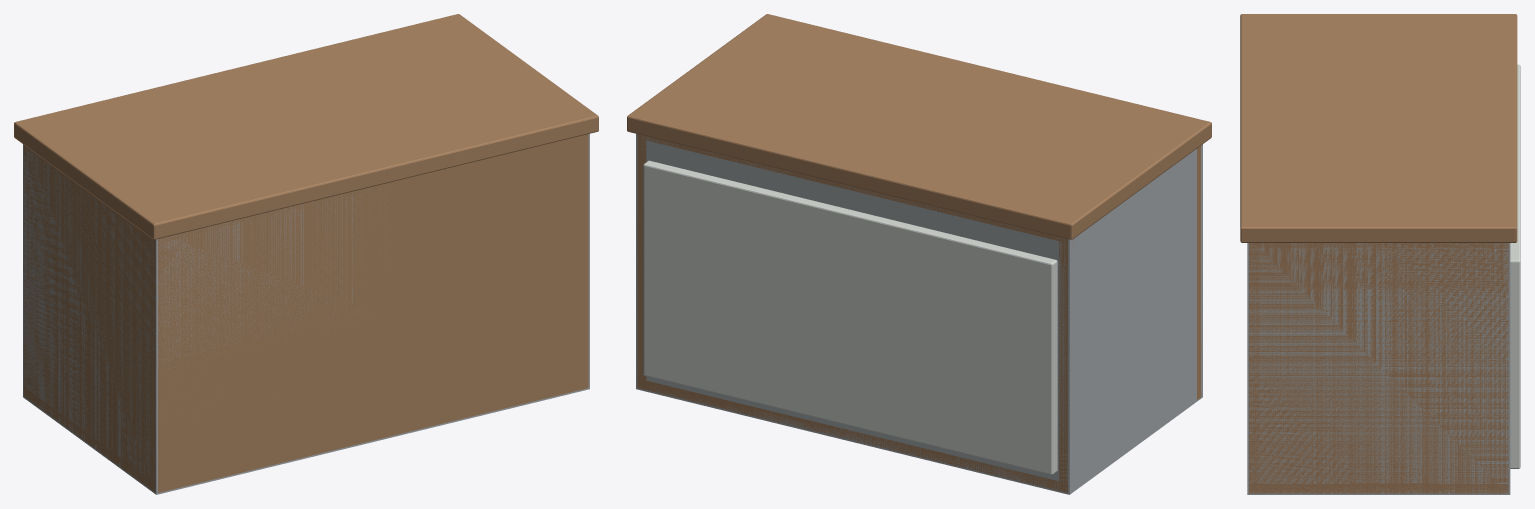
Rendered from chest.glb.
3 views of the same model, side by side, from view 1: azimuth 30°, elevation 25°; view 2: azimuth 150°, elevation 25°; view 3: azimuth 270°, elevation 25° (orthographic).
Parts seen in each view (by area): view 1: propkit_chest_001_back, propkit_chest_007_lid, propkit_chest_002_side_-1, propkit_chest_COL, propkit_chest_004_base; view 2: propkit_chest_006_front, propkit_chest_007_lid, propkit_chest_COL, propkit_chest_004_base, propkit_chest_002_side_-1, propkit_chest_005_top, propkit_chest_003_side_1, propkit_chest_001_back; view 3: propkit_chest_007_lid, propkit_chest_003_side_1, propkit_chest_COL, propkit_chest_006_front, propkit_chest_001_back, propkit_chest_004_base, propkit_chest_005_top.
Part boxes in pixels (x1,y1,x2,y2): propkit_chest_001_back: [150, 134, 588, 492]; propkit_chest_007_lid: [14, 14, 598, 239]; propkit_chest_002_side_-1: [23, 145, 165, 491]; propkit_chest_COL: [23, 133, 589, 494]; propkit_chest_004_base: [23, 387, 155, 491]; propkit_chest_006_front: [643, 160, 1057, 474]; propkit_chest_007_lid: [627, 14, 1211, 239]; propkit_chest_COL: [636, 133, 1202, 494]; propkit_chest_004_base: [637, 378, 1067, 492]; propkit_chest_002_side_-1: [1059, 237, 1075, 492]; propkit_chest_005_top: [644, 136, 1184, 242]; propkit_chest_003_side_1: [637, 134, 646, 389]; propkit_chest_001_back: [1197, 146, 1201, 399]; propkit_chest_007_lid: [1240, 14, 1517, 242]; propkit_chest_003_side_1: [1249, 243, 1508, 493]; propkit_chest_COL: [1247, 243, 1510, 494]; propkit_chest_006_front: [1510, 64, 1520, 468]; propkit_chest_001_back: [1249, 243, 1259, 493]; propkit_chest_004_base: [1249, 484, 1508, 493]; propkit_chest_005_top: [1249, 243, 1508, 247].
Size of the model in its own units: 0.925 by 0.544 by 0.511.
